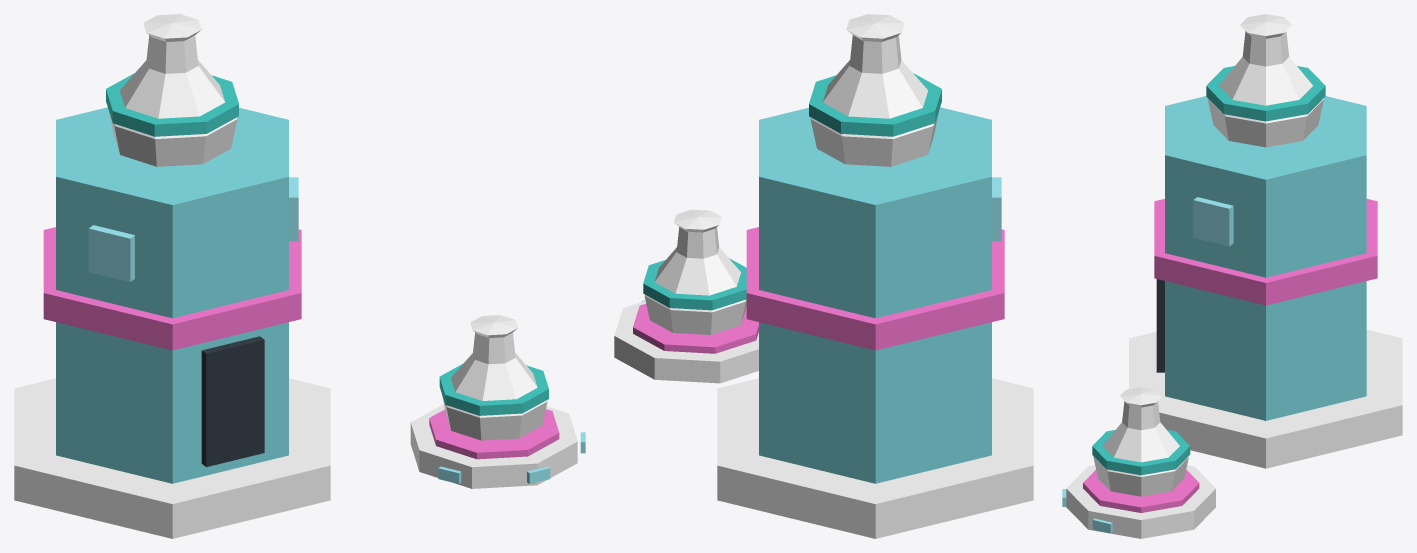
Rendered from lab-landmark-s2.glb.
3 renders of one model, left to right at view 1: azimuth 30°, elevation 25°; view 2: azimuth 150°, elevation 25°; view 3: azimuth 270°, elevation 25°, orthographic. The views are drawn at different scales.
Parts seen in each view (by area): view 1: lab-landmark-s2; view 2: lab-landmark-s2; view 3: lab-landmark-s2.
Boxes of the visible parts, x1,y1,x2,y2 form: lab-landmark-s2: [14, 14, 585, 538]; lab-landmark-s2: [614, 14, 1033, 538]; lab-landmark-s2: [1062, 14, 1402, 538].
Size of the model in its own units: 1.16 by 1.01 by 0.8191.
